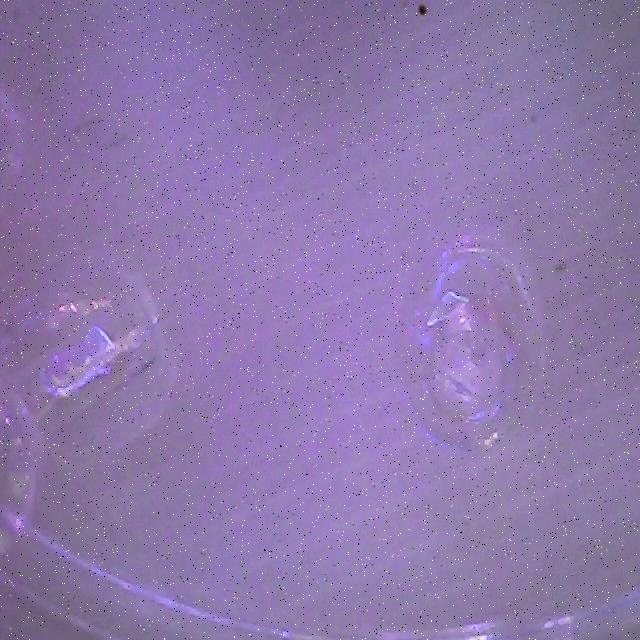beads: (395, 234, 549, 456)
